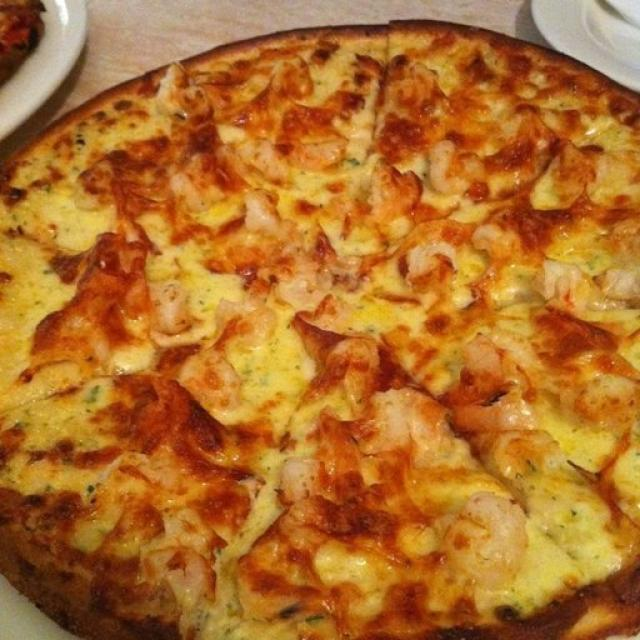Onions: (449, 487, 527, 596), (358, 386, 454, 466), (553, 339, 639, 405), (154, 539, 212, 607), (462, 336, 543, 384), (214, 286, 279, 342), (493, 423, 562, 473), (271, 260, 330, 312), (490, 386, 547, 438), (323, 225, 382, 270), (185, 364, 243, 408), (163, 173, 210, 224), (395, 243, 460, 279), (538, 259, 590, 302), (424, 136, 463, 192), (288, 139, 344, 174), (248, 134, 290, 180), (595, 262, 640, 302), (156, 62, 187, 120), (247, 190, 285, 232), (278, 459, 318, 497), (155, 284, 192, 323), (467, 221, 512, 253), (165, 319, 209, 349)
Pizza: (0, 22, 640, 640)
